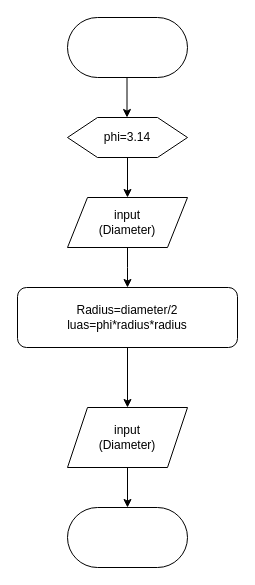
This 255x585 diagram has some shape labels left out. Here are the shapes that lost their labels. From the top down, the box of each, then its label:
(66, 16, 188, 78): Start
(66, 506, 188, 568): Stop
